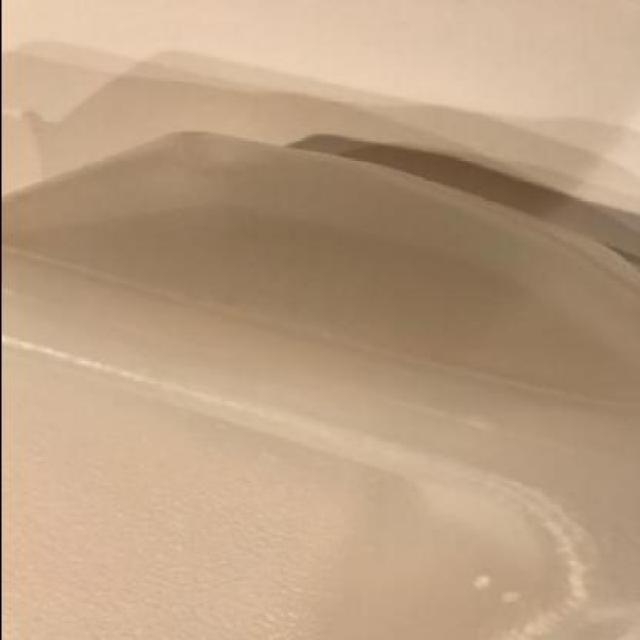PLASTIC: (1, 132, 638, 638)
